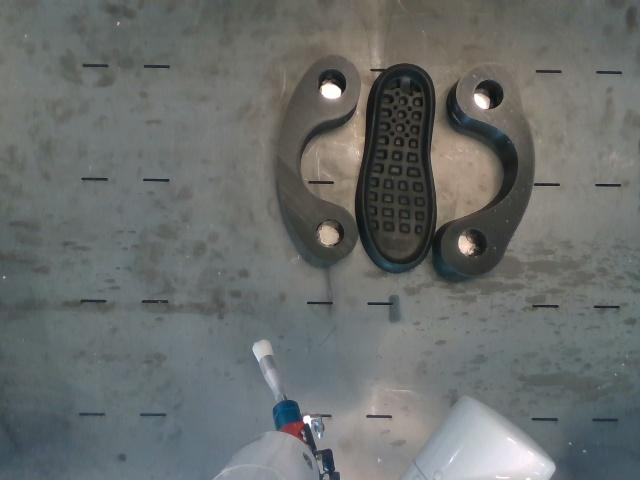shoes: (364, 68, 433, 264)
